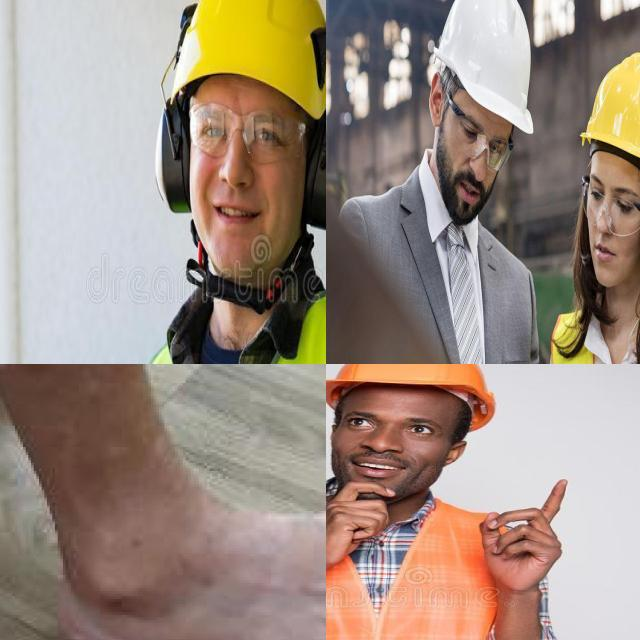Barefoots: (42, 456, 326, 640)
No_Ear-Protection: (427, 68, 445, 128), (442, 434, 470, 470)
No_Glasses: (332, 406, 442, 445)
face_nomask: (181, 78, 318, 264), (326, 399, 468, 497), (433, 64, 515, 224), (577, 139, 640, 292)
glasses: (185, 99, 311, 168), (448, 102, 513, 174), (578, 172, 640, 238)
hand_noglove: (482, 484, 583, 588), (326, 484, 400, 572)
head_helmet: (160, 0, 326, 122), (426, 0, 532, 131), (326, 364, 517, 418), (580, 24, 640, 187)
person: (123, 0, 326, 364), (363, 0, 542, 364), (326, 364, 548, 640), (548, 31, 640, 364)
vest: (326, 499, 509, 640), (543, 295, 640, 364)
